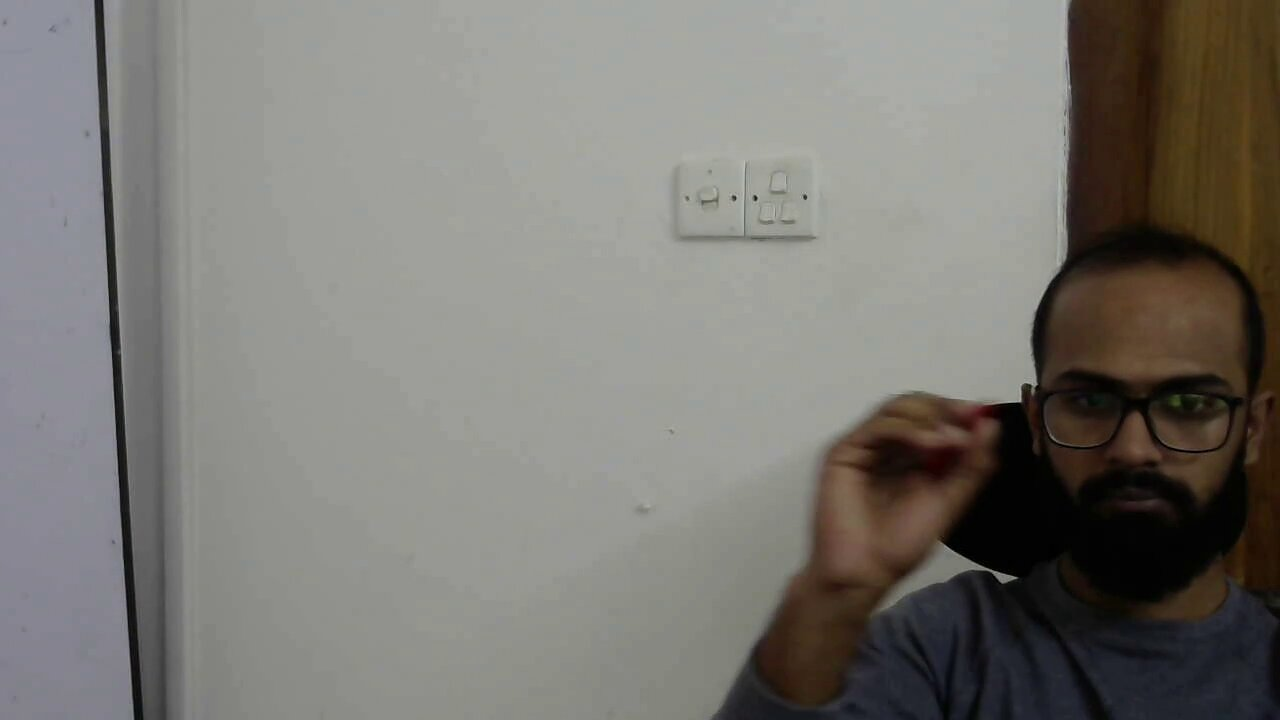pointer: (821, 390, 1002, 532)
